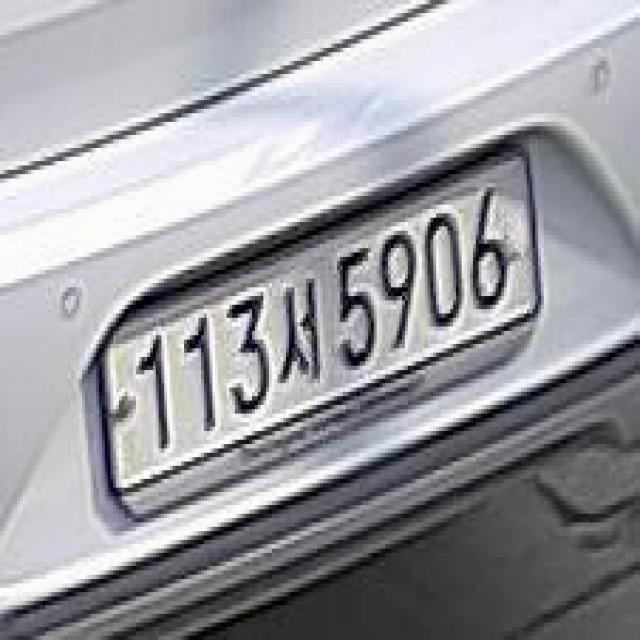illegal_plate: (88, 130, 554, 534)
